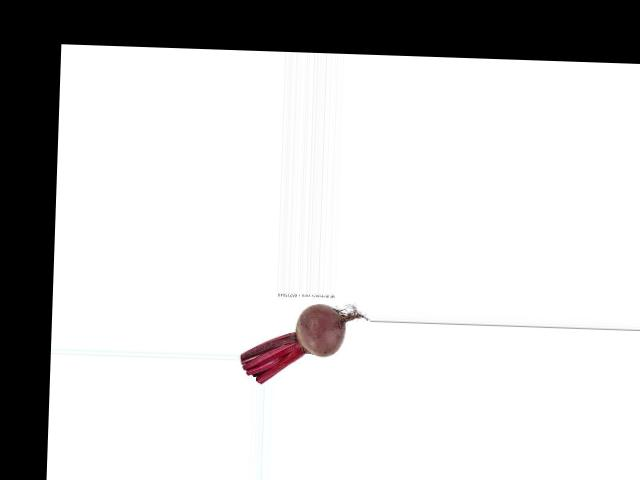beet: (239, 301, 368, 386)
